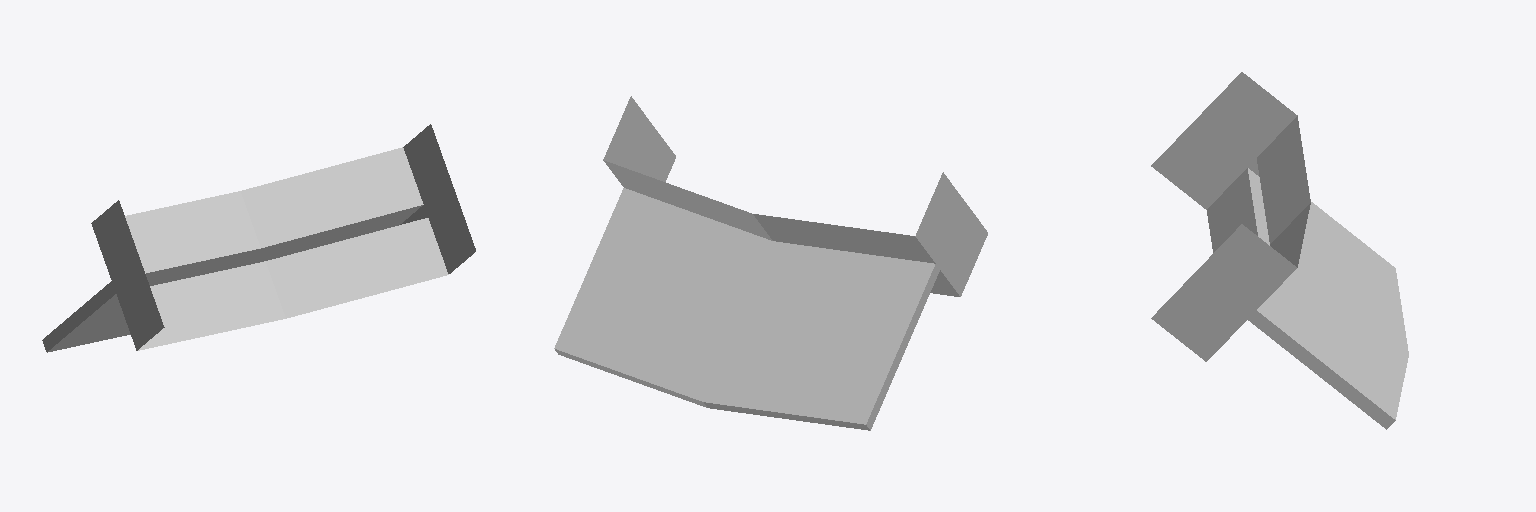
File: EngineBody2.obj
The picture shows the model from 3 angles: view 1: azimuth 30°, elevation 25°; view 2: azimuth 150°, elevation 25°; view 3: azimuth 270°, elevation 25°; orthographic projection.
Parts seen in each view (by area): view 1: VaccumCleanerBody5(RED)_Cylinder.035; view 2: VaccumCleanerBody5(RED)_Cylinder.035; view 3: VaccumCleanerBody5(RED)_Cylinder.035.
Boxes of the visible parts, x1,y1,x2,y2 form: VaccumCleanerBody5(RED)_Cylinder.035: [42, 124, 475, 352]; VaccumCleanerBody5(RED)_Cylinder.035: [554, 96, 987, 430]; VaccumCleanerBody5(RED)_Cylinder.035: [1151, 72, 1408, 429].
Bounding box in the file's own units: 0.0975 × 0.0647 × 0.0699.